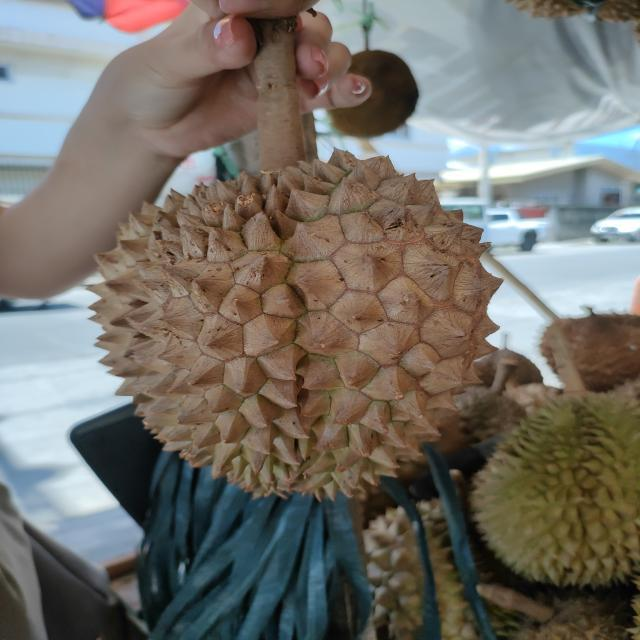mature: (83, 138, 507, 500)
